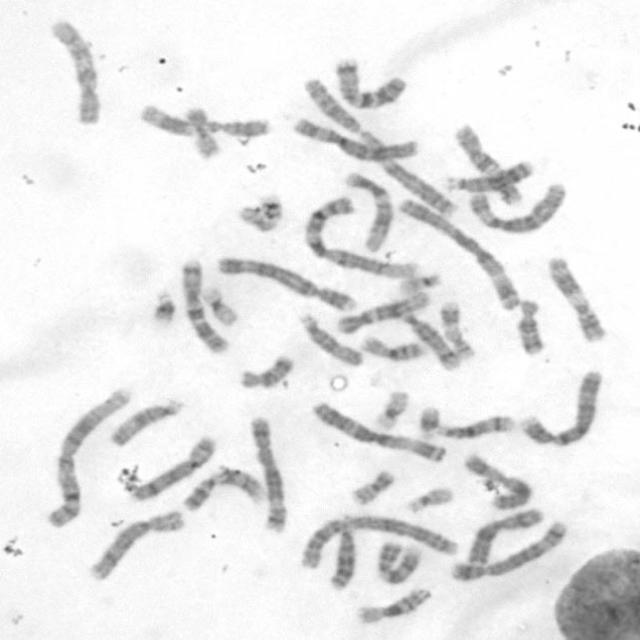A1: (44, 384, 133, 532), (304, 194, 421, 280)
A2: (302, 77, 461, 219), (298, 514, 460, 570)
A3: (398, 198, 524, 311), (310, 399, 449, 464)
B4: (214, 256, 360, 313), (519, 367, 605, 448)
B5: (449, 518, 568, 582), (250, 416, 288, 535)
C10: (41, 17, 104, 127), (449, 119, 525, 207)
C11: (547, 255, 608, 345), (137, 103, 272, 140)
C12: (334, 289, 431, 336), (342, 172, 394, 254)
C6: (292, 115, 422, 163), (469, 182, 572, 233)
C7: (180, 257, 232, 355), (331, 53, 409, 111)
C8: (86, 509, 186, 582), (130, 436, 217, 502)
C9: (180, 466, 268, 514), (375, 540, 423, 584)
D13: (444, 158, 536, 194), (325, 524, 356, 589)
D14: (392, 308, 462, 372), (432, 414, 515, 440)
D15: (296, 311, 366, 368), (108, 398, 182, 447)
E16: (352, 585, 433, 626), (355, 333, 427, 361)
E17: (439, 300, 476, 360), (238, 191, 282, 234)
E18: (238, 353, 294, 390), (516, 299, 544, 356)
F19: (199, 287, 241, 325), (372, 388, 410, 429)
F20: (181, 105, 224, 160), (347, 468, 396, 508)
G21: (149, 284, 178, 327), (414, 404, 442, 442)
G22: (407, 486, 456, 514), (397, 273, 441, 296)
X: (465, 505, 545, 567), (460, 452, 533, 510)
